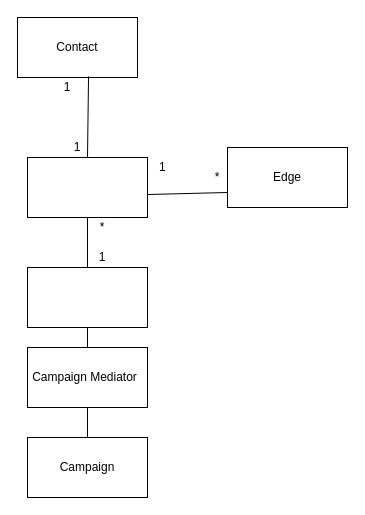
Image size: 365x515. Some labels were removed from this diagram. Here are the shapes that lost their labels. From the top down, the box of each, then its label:
(26, 156, 148, 218): Node
(26, 266, 148, 328): Graph
